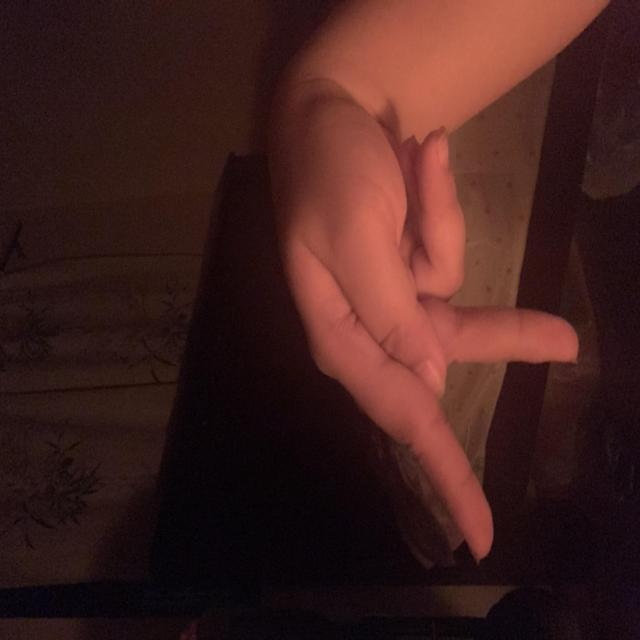P: (84, 263, 564, 581)
